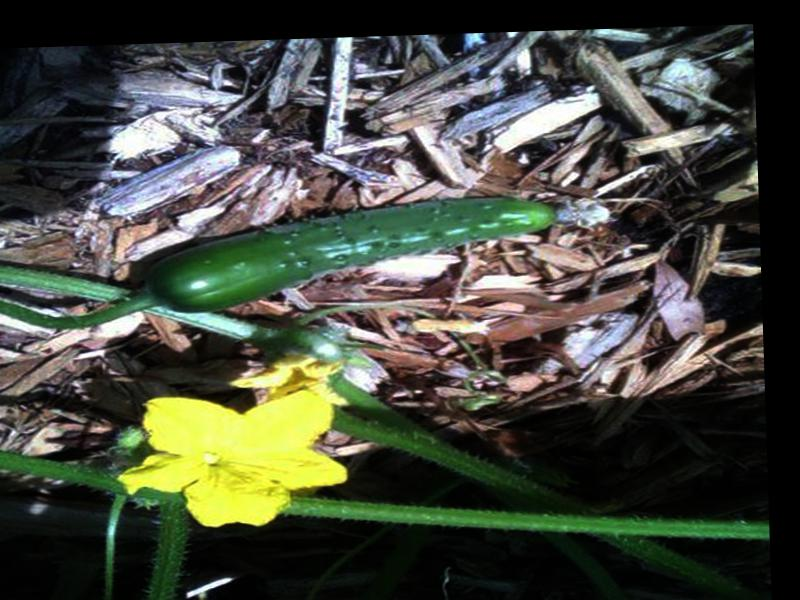Cucumber: (137, 189, 603, 314)
